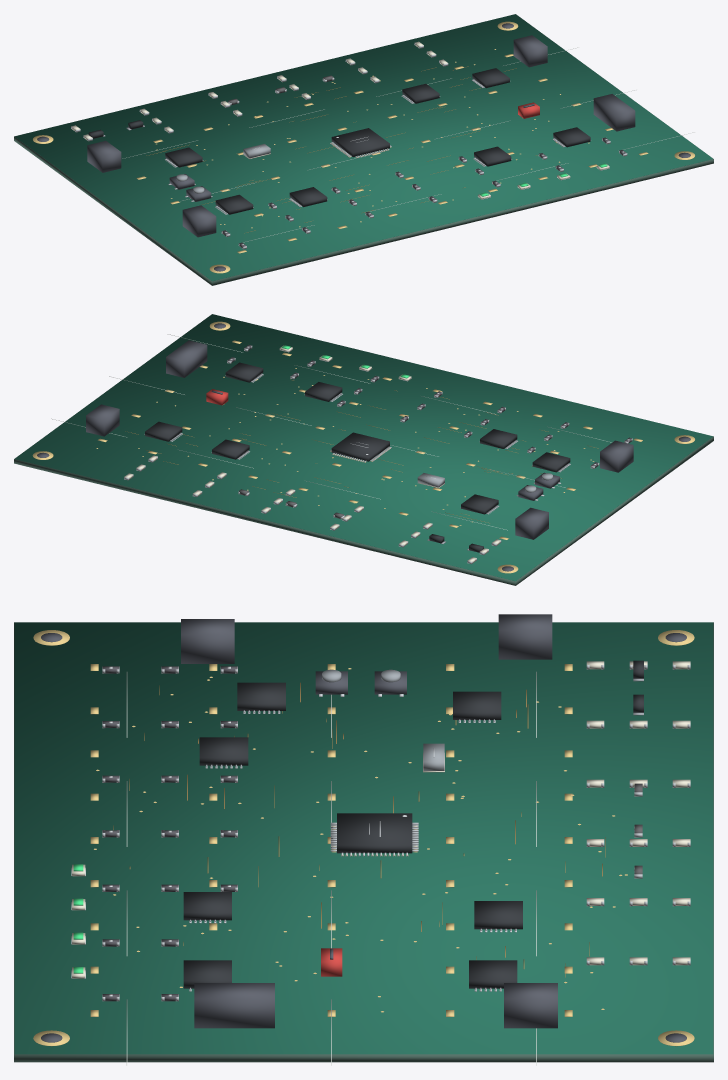
The model's file is L99_COMPLETE_BOARD_VISUAL_REFERENCE_ONLY.fbx.
3 renders of one model, top to bottom at view 1: azimuth 30°, elevation 25°; view 2: azimuth 150°, elevation 25°; view 3: azimuth 270°, elevation 25°, orthographic. The views are drawn at different scales.
Visible parts, largest first — view 1: Model::Part_602, Model::Part_601, Model::Part_532, Model::Part_000, Model::Part_514, Model::Part_523, Model::Part_545, Model::Part_342, Model::Part_237, Model::Part_202, Model::Part_167, Model::Part_272 (+2 smaller); view 2: Model::Part_602, Model::Part_601, Model::Part_532, Model::Part_000, Model::Part_523, Model::Part_545, Model::Part_514, Model::Part_307, Model::Part_342, Model::Part_132, Model::Part_167, Model::Part_202 (+2 smaller); view 3: Model::Part_602, Model::Part_601, Model::Part_532, Model::Part_000, Model::Part_514, Model::Part_523, Model::Part_545, Model::Part_237, Model::Part_342, Model::Part_202, Model::Part_272, Model::Part_132 (+2 smaller).
Boxes of the visible parts, x1,y1,x2,y2 form: Model::Part_602: (14,14,712,281); Model::Part_601: (14,17,713,285); Model::Part_532: (593,94,635,131); Model::Part_000: (331,128,389,157); Model::Part_514: (87,140,121,172); Model::Part_523: (513,35,547,67); Model::Part_545: (182,205,216,237); Model::Part_342: (215,194,253,214); Model::Part_237: (289,187,327,207); Model::Part_202: (165,147,202,167); Model::Part_167: (472,68,509,88); Model::Part_272: (474,146,511,166); Model::Part_602: (15,314,713,581); Model::Part_601: (14,317,713,585); Model::Part_532: (166,340,207,377); Model::Part_000: (331,432,389,461); Model::Part_523: (86,404,119,436); Model::Part_545: (600,440,633,472); Model::Part_514: (515,507,548,539); Model::Part_307: (225,362,263,382); Model::Part_342: (532,452,570,472); Model::Part_132: (212,439,249,459); Model::Part_167: (145,421,182,441); Model::Part_202: (461,494,498,514); Model::Part_602: (14,622,713,1054); Model::Part_601: (14,622,713,1062); Model::Part_532: (194,983,274,1028); Model::Part_000: (337,813,412,853); Model::Part_514: (498,614,552,659); Model::Part_523: (504,983,557,1028); Model::Part_545: (181,619,234,663); Model::Part_237: (199,737,248,765); Model::Part_342: (237,682,285,710); Model::Part_202: (453,691,501,719); Model::Part_272: (183,892,231,920); Model::Part_132: (474,901,522,929).
Bounding box in the file's own units: 19.5 × 0.81 × 13.
